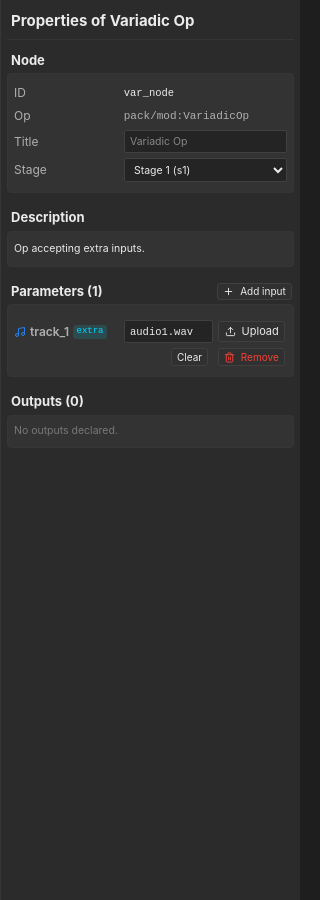
Scenario: NodeInspector component (Task 6.11) › supports adding and removing dynamic extra input ports when allow_extra_inputs is true (Task 3.3)
Later steps or results of the test are not shown.
Expected: the text "track_1" is shown, 30,323 -> 69,341
Expected: the text "extra" is shown, 73,325 -> 107,339
# Clicking remove should delete the port
Click the button with test id "inspector-remove-extra-track_1".
click(251, 357)  # box 218,348 -> 285,366
Click the button with test id "btn-add-extra-input".
click(254, 291)  # box 217,283 -> 292,300
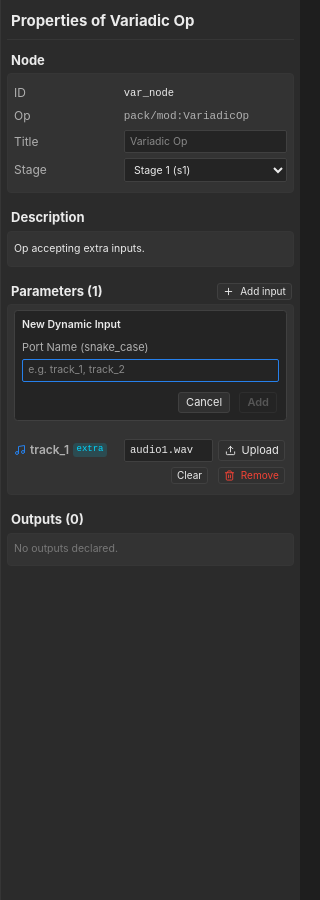
# Invalid snake_case
Type "Track 2" into the field with test id "input-new-extra-port-name".
click(150, 370); type("Track 2")  # box 22,359 -> 279,382
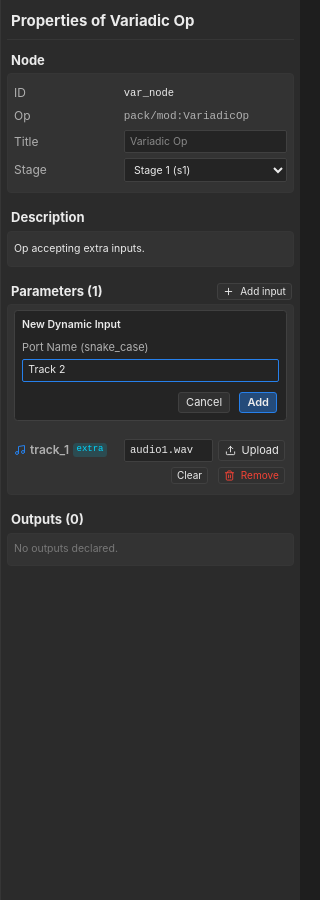
Click the button with test id "btn-submit-add-extra-input".
click(258, 403)  # box 239,392 -> 277,413
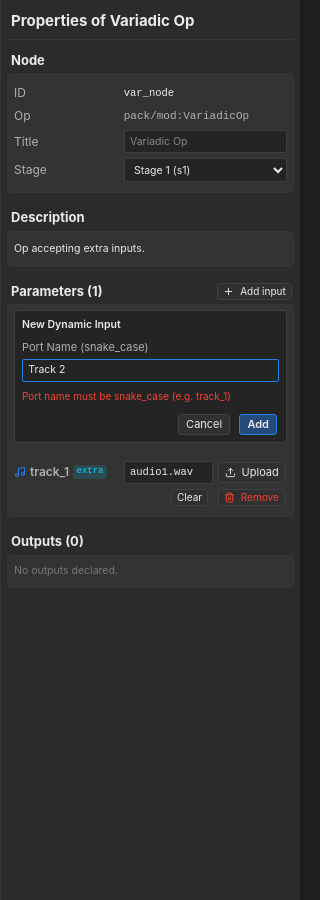
Now the text "Port name must be snake_case (e.g. track_1)" is shown, box 22,390 -> 231,402
